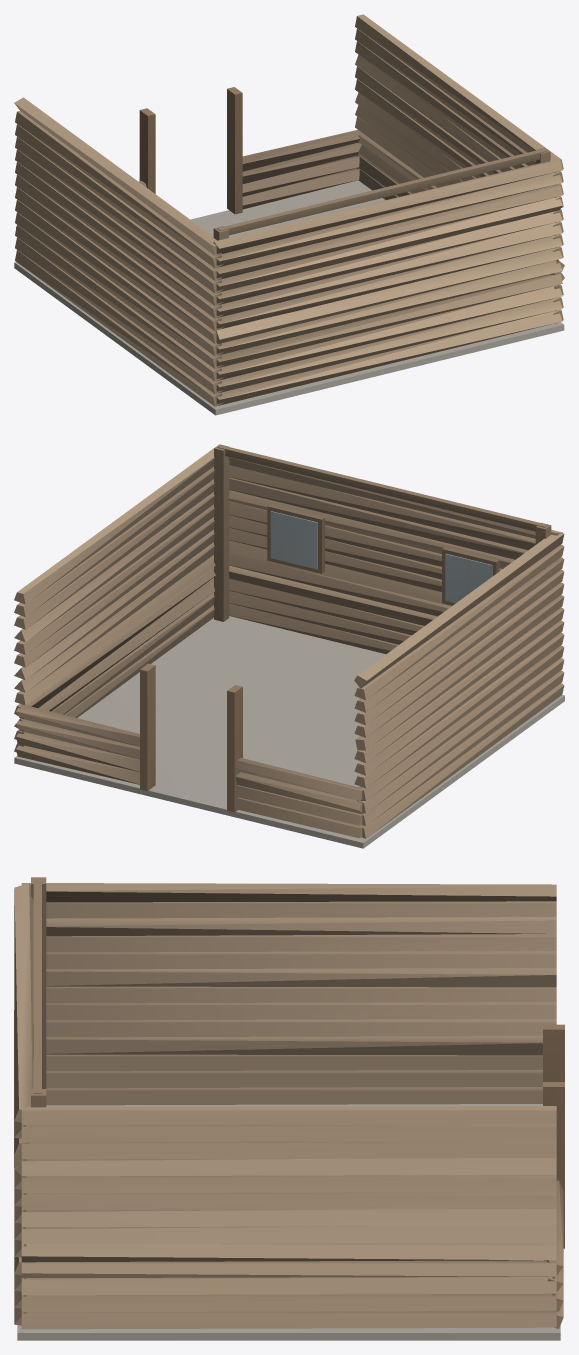
The model's file is home_hut_room__base_low.glb.
3 renders of one model, top to bottom at view 1: azimuth 30°, elevation 25°; view 2: azimuth 150°, elevation 25°; view 3: azimuth 270°, elevation 25°, orthographic. The views are drawn at different scales.
Size of the model in its own units: 6.47 by 3.12 by 6.49.
